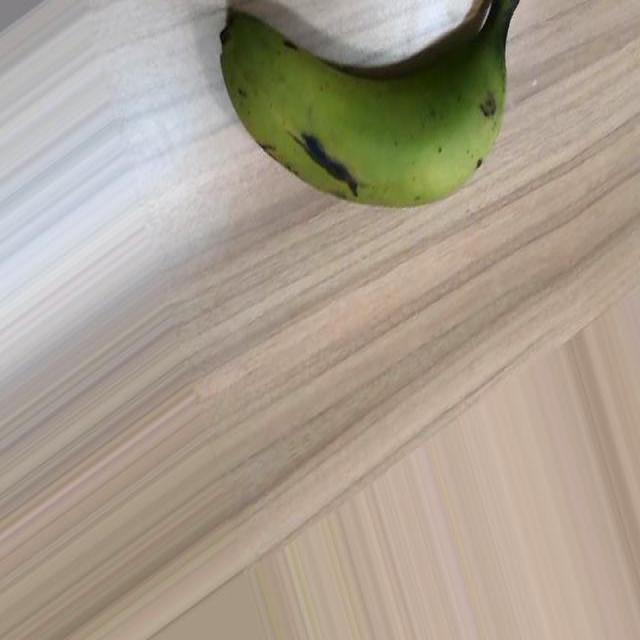Unripe: (219, 0, 521, 207)
